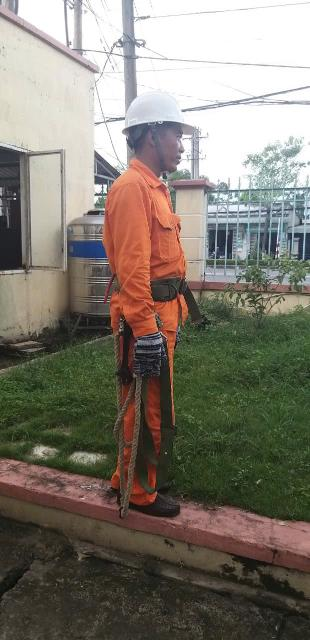gloves: (119, 328, 175, 382)
harness: (103, 262, 203, 310)
helmet: (120, 92, 201, 137)
shoes: (112, 484, 182, 523), (98, 465, 194, 491)
